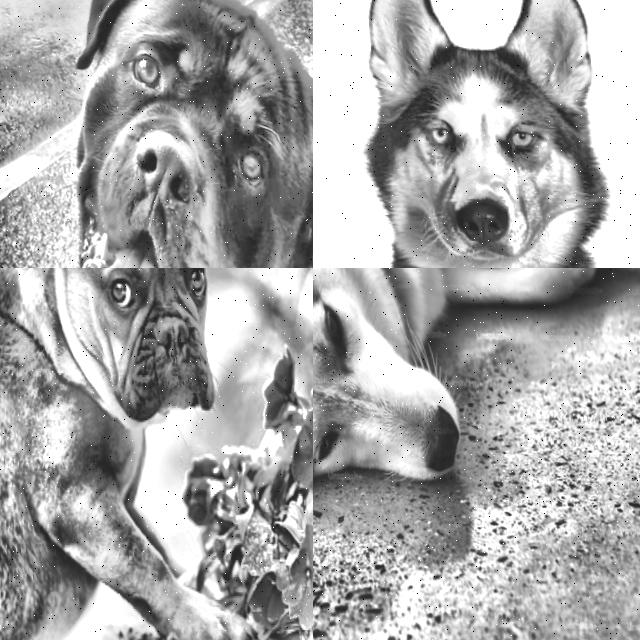bulldog: (0, 268, 233, 447)
husky: (313, 0, 640, 268), (313, 268, 498, 587)
rottweiler: (21, 0, 313, 268)
